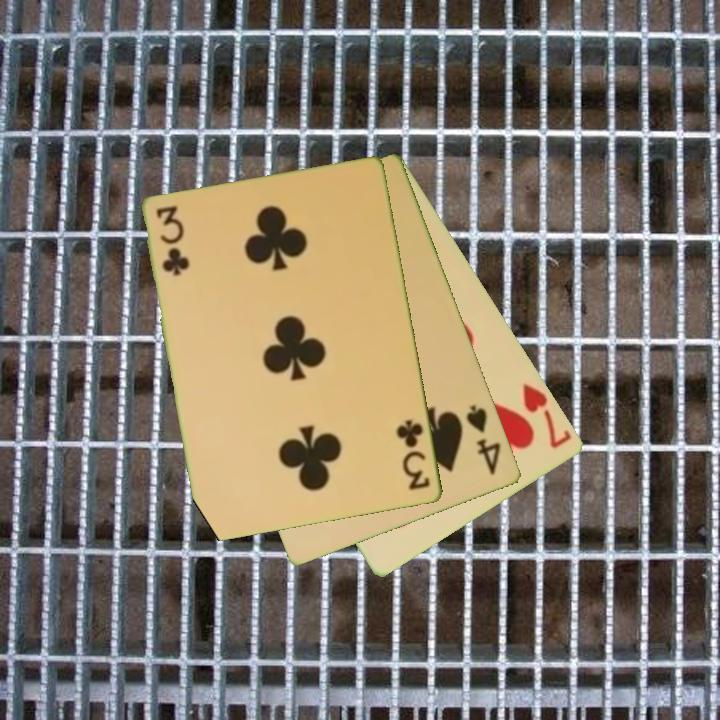3c: (393, 417, 433, 493), (153, 202, 190, 280)
4s: (463, 401, 504, 479)
7h: (519, 380, 575, 452)
